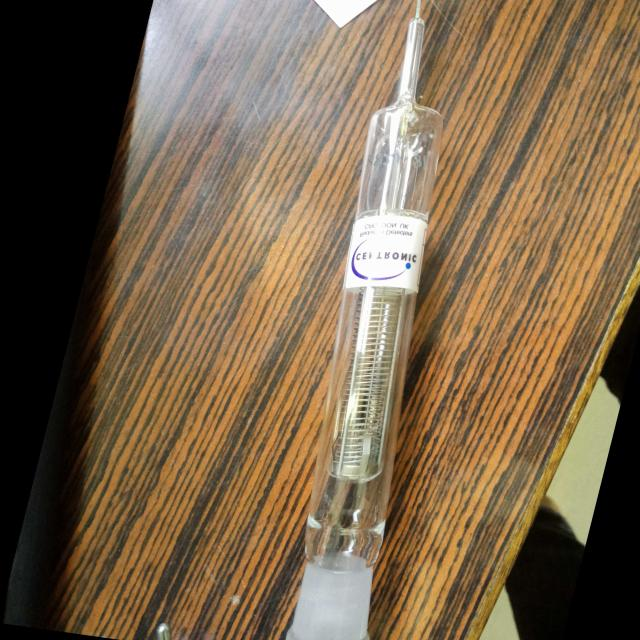Helium Lamp: (228, 0, 546, 640)
